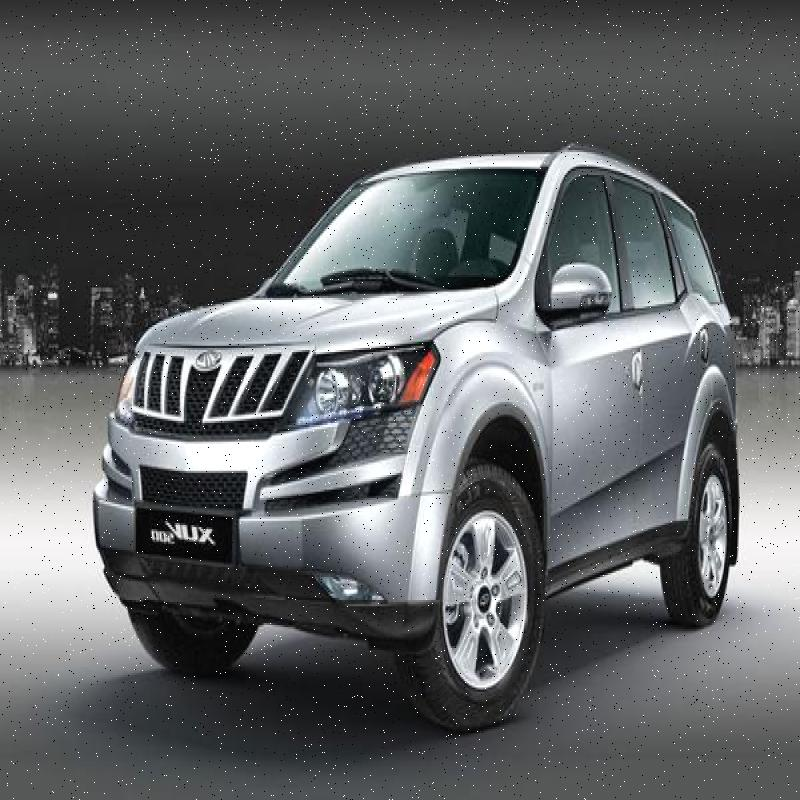car: (77, 145, 750, 718)
